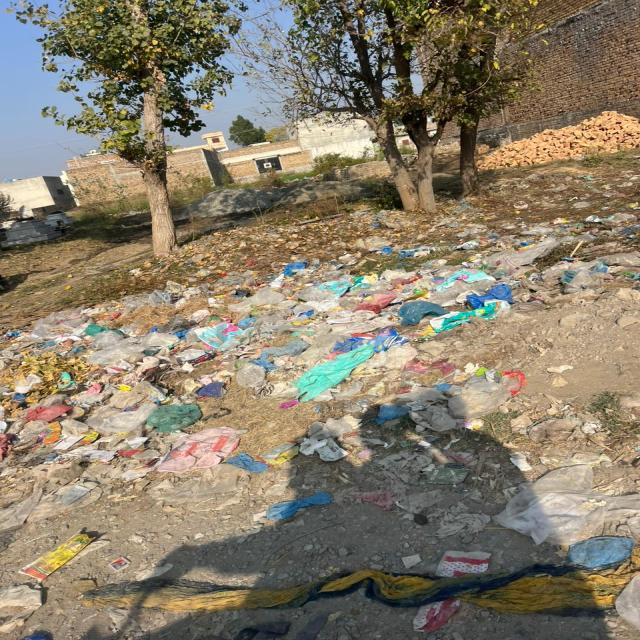garbage: (0, 242, 627, 521)
